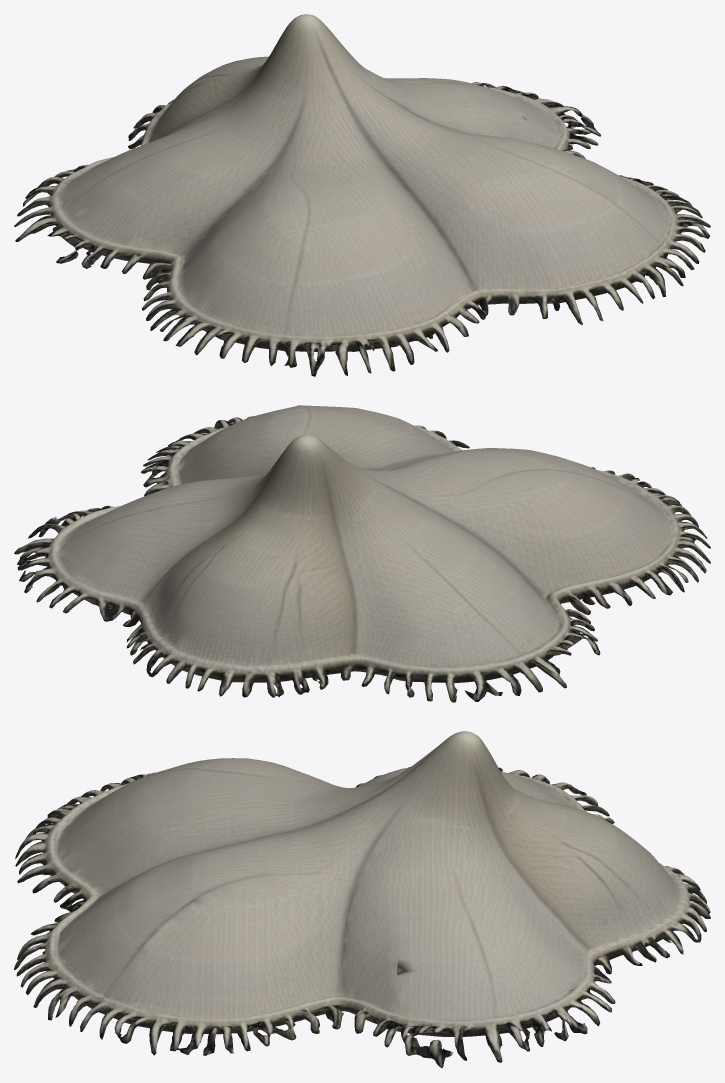
The picture shows the model from 3 angles, top to bottom: view 1: azimuth 30°, elevation 25°; view 2: azimuth 150°, elevation 25°; view 3: azimuth 270°, elevation 25°; orthographic projection. The views are drawn at different scales.
Parts seen in each view (by area): view 1: world; view 2: world; view 3: world.
Boxes of the visible parts, x1,y1,x2,y2 form: world: (14,14,710,376); world: (14,405,710,702); world: (14,731,710,1068).
Bounding box in the file's own units: 0.9841 × 0.299 × 0.9942.
Materials: 1 (1 with a texture image).
